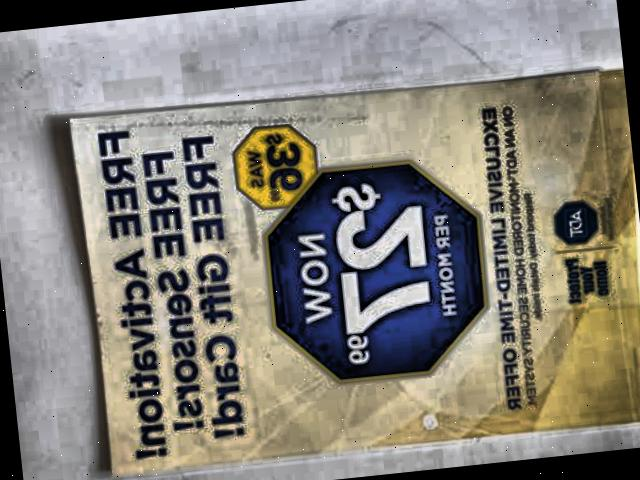Paper: (53, 35, 640, 480)
